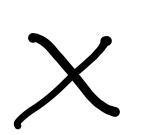mult: (13, 32, 120, 130)
